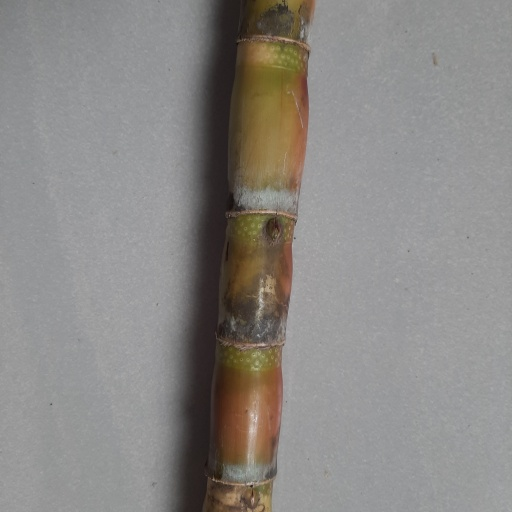Bud: (263, 218, 283, 242), (243, 487, 262, 509)
